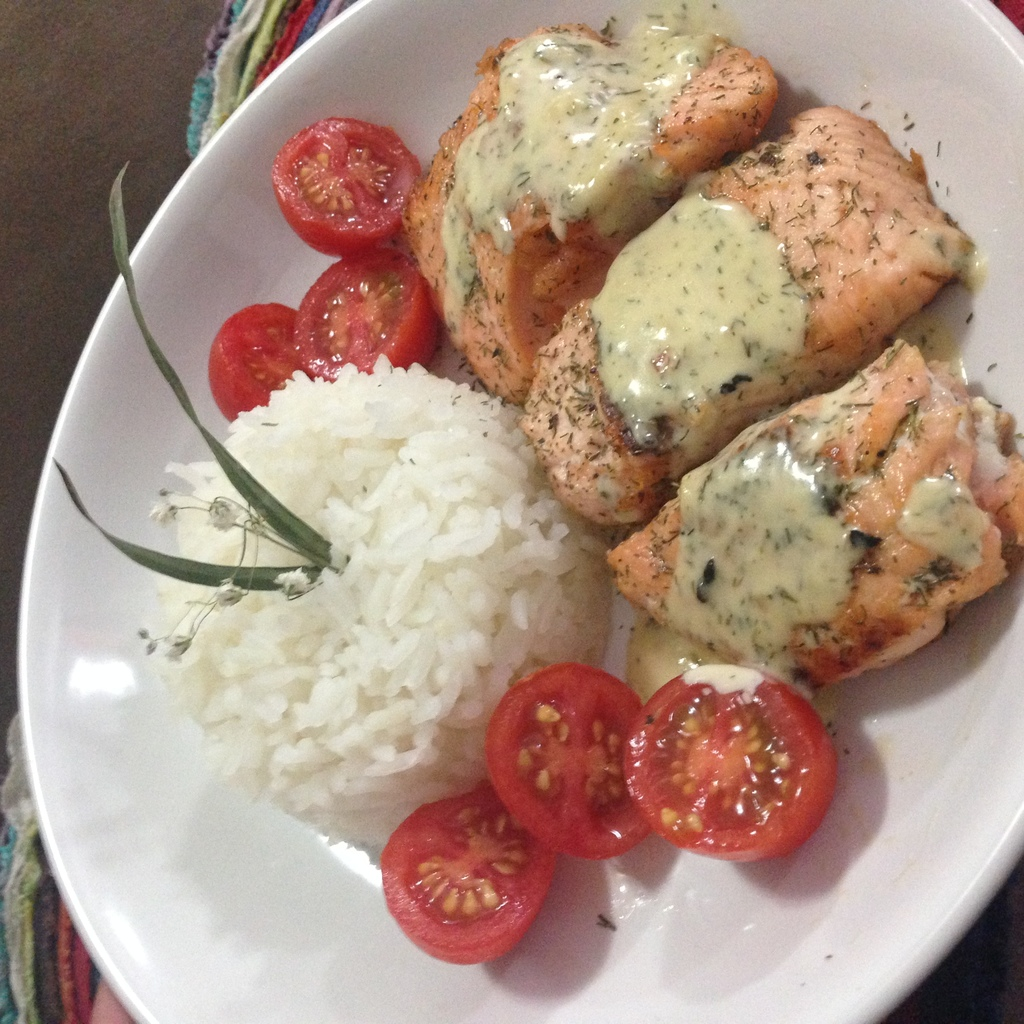Tomato: (614, 663, 836, 852), (378, 785, 576, 973), (483, 659, 651, 862), (291, 243, 437, 368), (272, 141, 434, 248), (205, 303, 317, 423)
